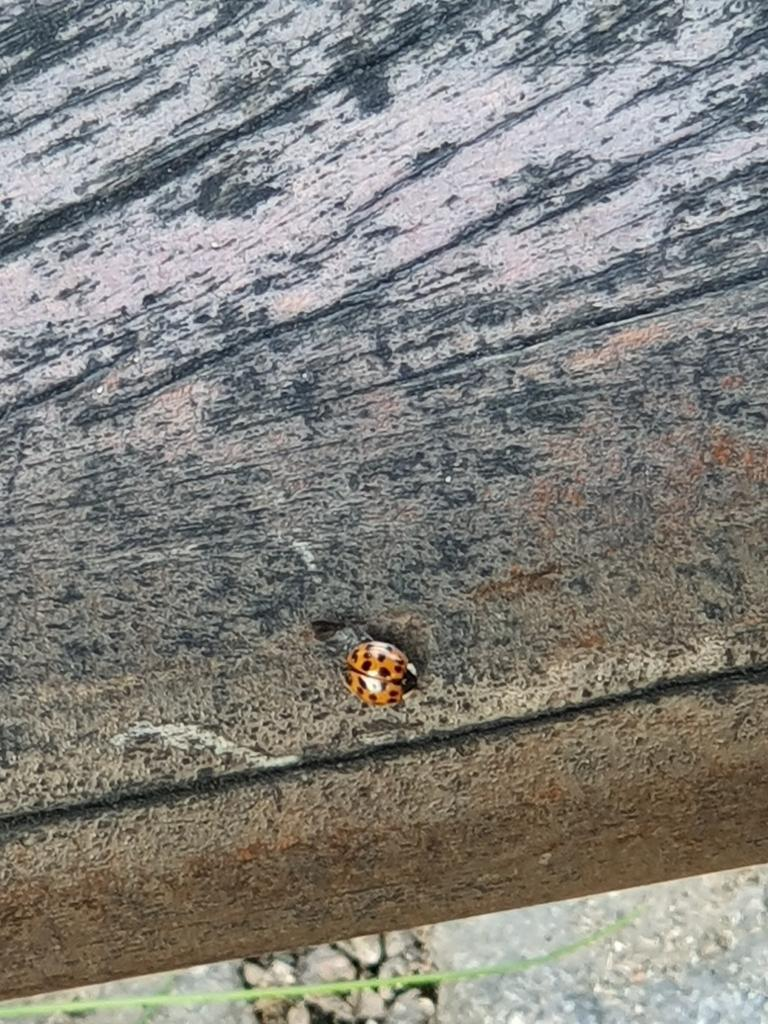ladybug: (343, 633, 421, 712)
